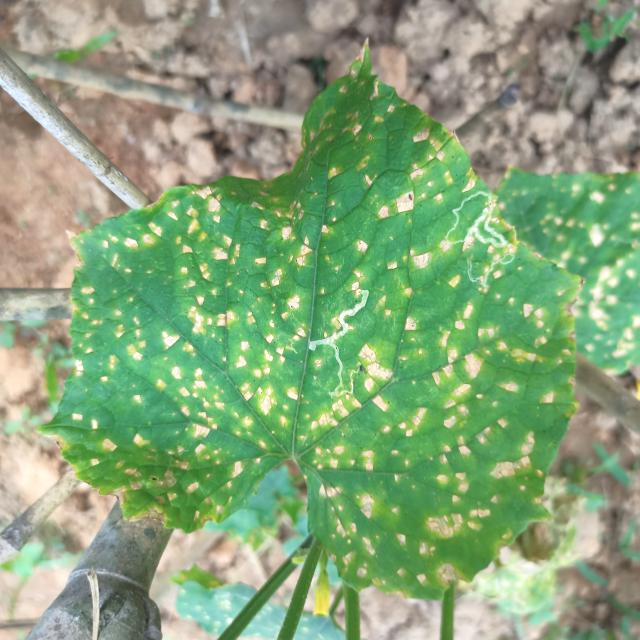disease_cucumber: (101, 109, 549, 584)
